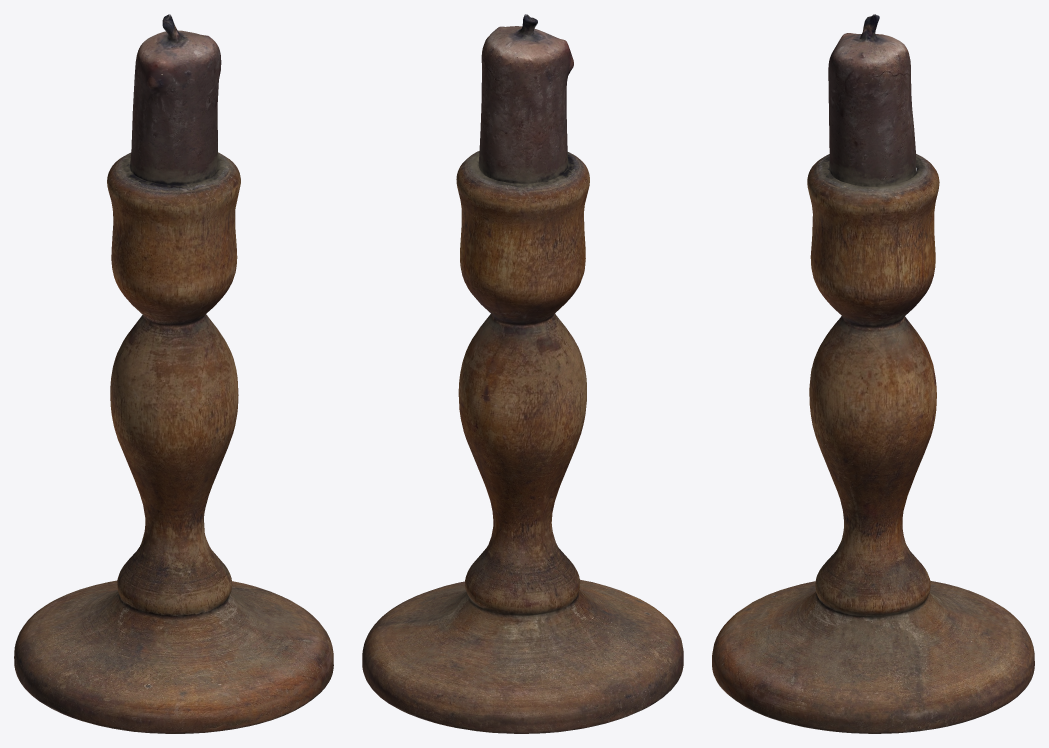
Rendered from wooden_candlestick.gltf.
3 renders of one model, left to right at view 1: azimuth 30°, elevation 25°; view 2: azimuth 150°, elevation 25°; view 3: azimuth 270°, elevation 25°, orthographic.
Parts seen in each view (by area): view 1: wooden_candlestick; view 2: wooden_candlestick; view 3: wooden_candlestick.
Boxes of the visible parts, box(x1,y1,x2,y2) form: wooden_candlestick: box(14, 14, 333, 733); wooden_candlestick: box(362, 14, 683, 733); wooden_candlestick: box(712, 14, 1034, 733).
Bounding box in the file's own units: 0.0972 × 0.2197 × 0.0986.
1 material, 1 textured.
